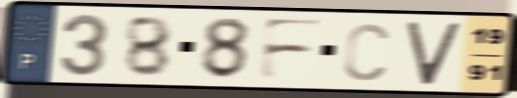3: (57, 11, 110, 78)
8: (199, 16, 254, 81), (122, 14, 177, 79)
C: (341, 20, 392, 83)
F: (254, 16, 328, 83)
V: (403, 20, 465, 88)
